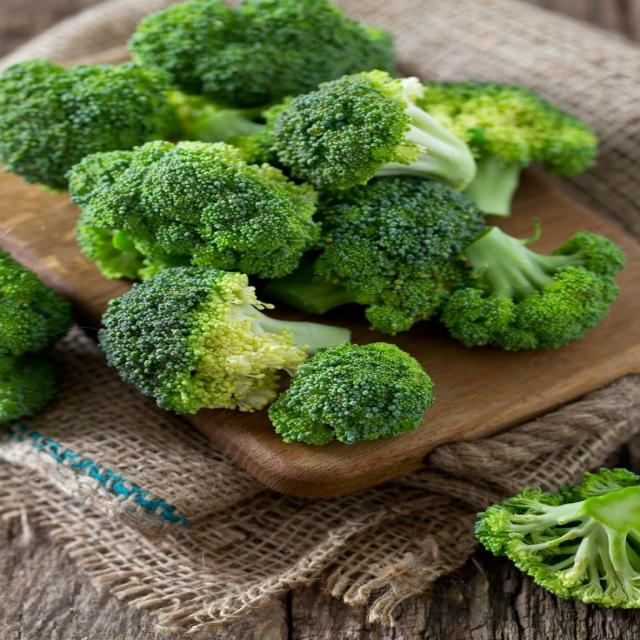broccoli: (100, 267, 349, 412), (265, 177, 483, 335), (68, 141, 319, 278), (129, 0, 393, 107), (267, 71, 475, 188), (419, 82, 597, 216), (476, 469, 639, 608), (0, 60, 175, 189), (442, 227, 624, 350), (269, 343, 433, 445), (0, 253, 71, 423), (0, 253, 72, 357), (170, 92, 265, 142), (0, 355, 55, 424), (228, 127, 284, 168)
